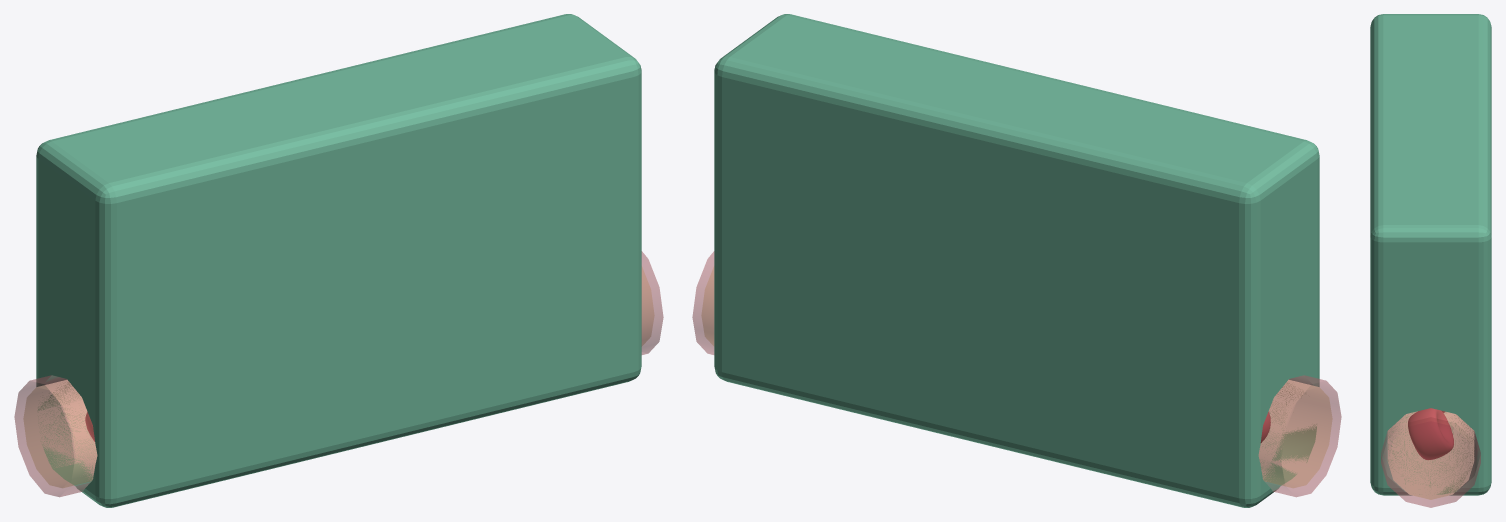
Rendered from fluid-spaces.glb.
The picture shows the model from 3 angles, left to right: view 1: azimuth 30°, elevation 25°; view 2: azimuth 150°, elevation 25°; view 3: azimuth 270°, elevation 25°; orthographic projection. The views are drawn at different scales.
Visible parts, largest first — view 1: interstitial_fluid, capillary_wall, plasma; view 2: interstitial_fluid, capillary_wall, plasma; view 3: interstitial_fluid, capillary_wall, plasma, red_blood_cells.
Boxes of the visible parts, box(x1,y1,x2,y2) form: interstitial_fluid: box(36, 14, 641, 507); capillary_wall: box(14, 251, 663, 497); plasma: box(23, 268, 654, 487); interstitial_fluid: box(714, 14, 1319, 507); capillary_wall: box(692, 251, 1341, 497); plasma: box(701, 268, 1332, 487); interstitial_fluid: box(1370, 14, 1491, 495); capillary_wall: box(1381, 408, 1480, 507); plasma: box(1388, 412, 1473, 499); red_blood_cells: box(1408, 408, 1453, 459).
Size of the model in its own units: 2.38 by 1.25 by 0.51.
